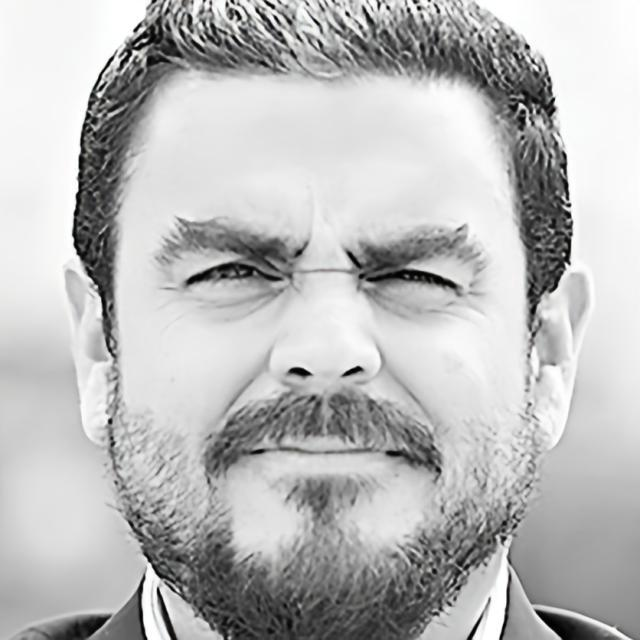anger: (116, 55, 527, 595)
